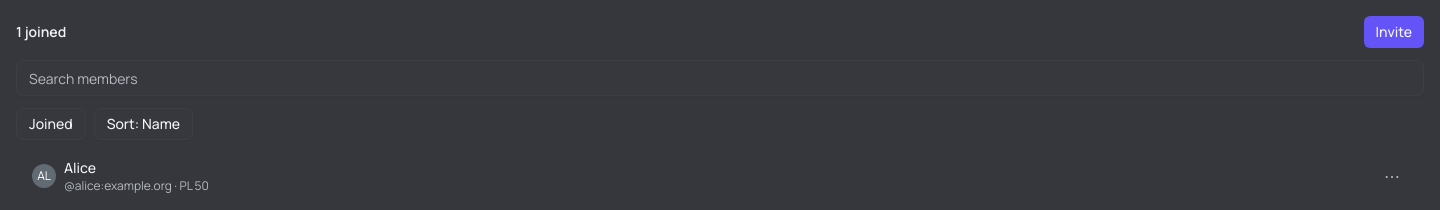
it: MemberList › filters by search query within the active membership filter
The image size is (1440, 210).
Expected: the text "Alice" is shown, [64,158,96,177]
Type "zzz" into the field labelled "Search members" at (720, 78), box [16,60,1424,96]
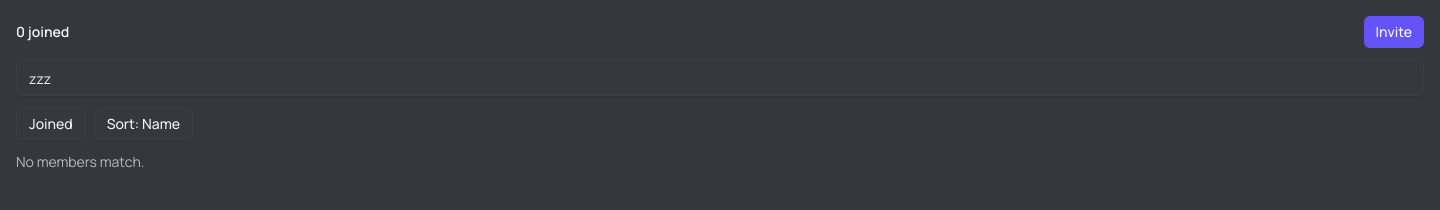
Expected: the text "No members match." is shown, [16,152,144,171]
